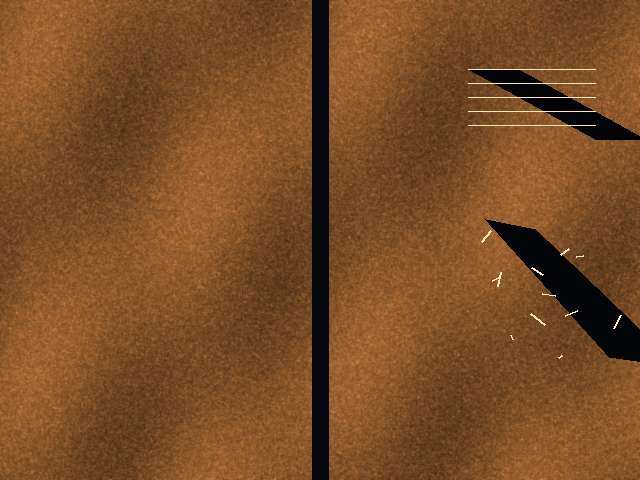Fishing Net: (468, 69, 595, 139)
Ghost Net: (475, 219, 619, 357)
